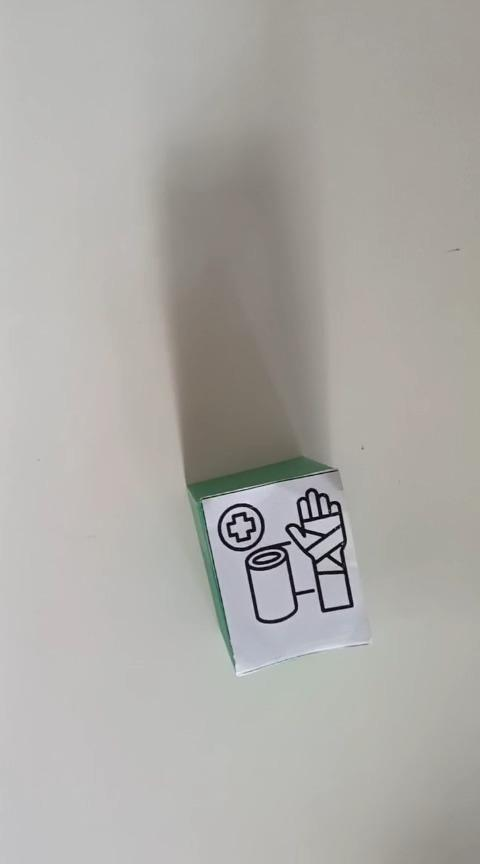Bandages: (185, 454, 372, 676)
